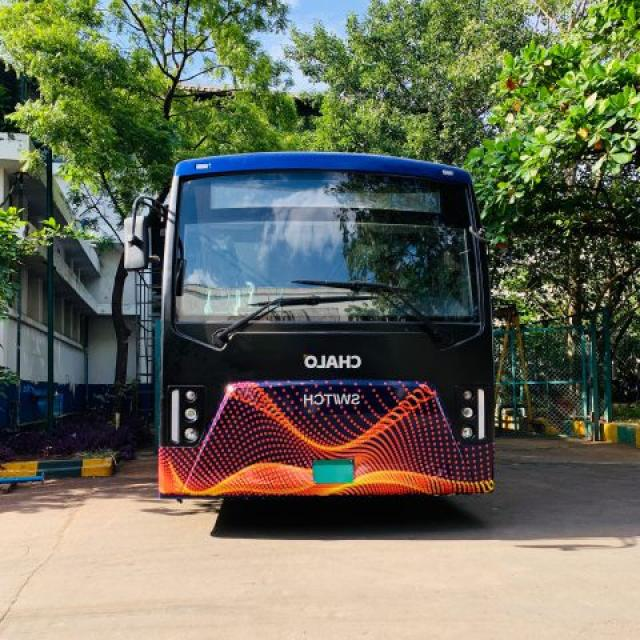bus: (124, 152, 492, 497)
